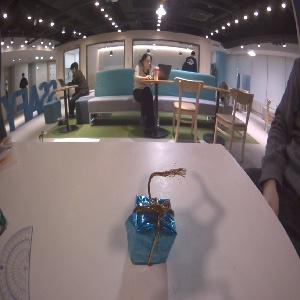box: (125, 196, 178, 270)
